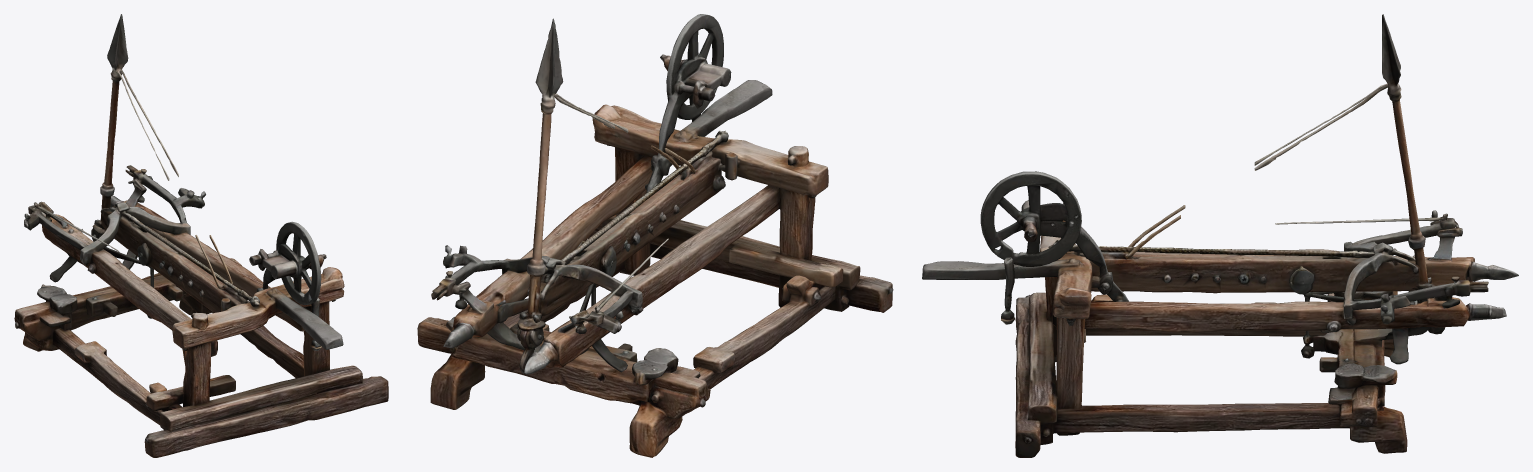
File: ballista-high.glb
3 renders of one model, left to right at view 1: azimuth 30°, elevation 25°; view 2: azimuth 150°, elevation 25°; view 3: azimuth 270°, elevation 25°, orthographic. The views are drawn at different scales.
Bounding box in the file's own units: 0.5639 × 0.7189 × 0.9993.
Materials: 1 (1 with a texture image).
